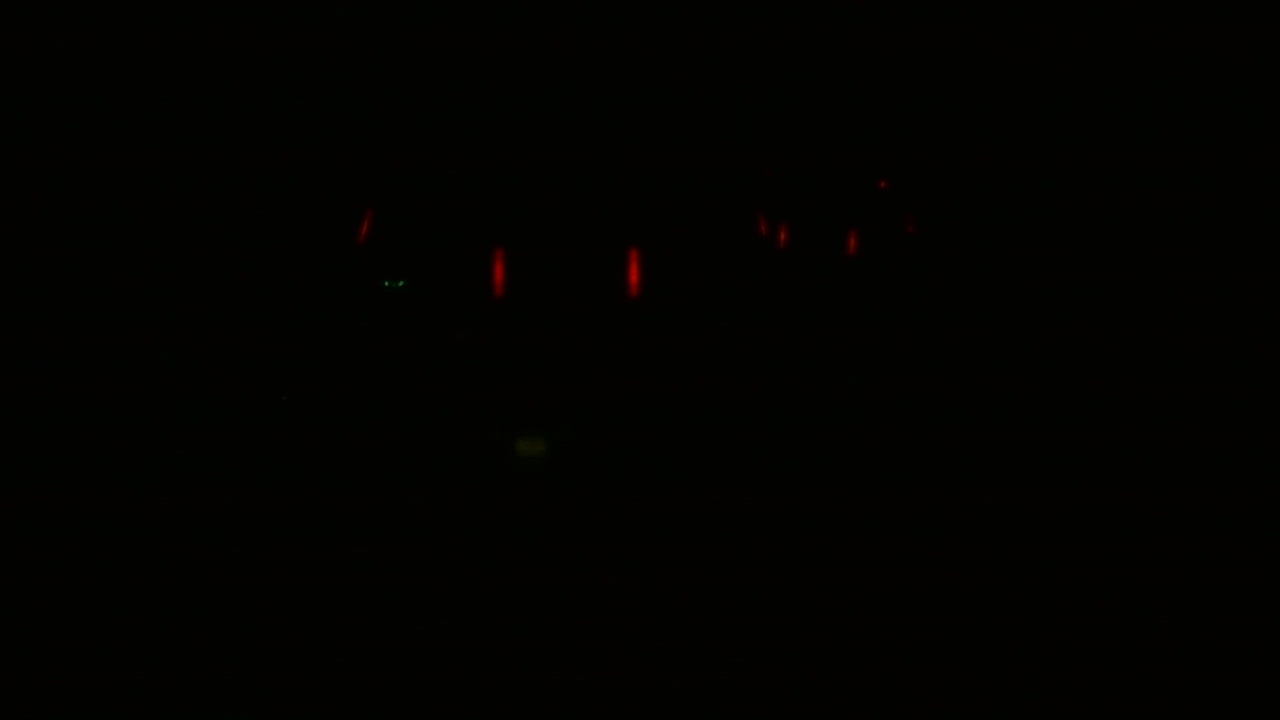pair1: (489, 245, 644, 303), (773, 217, 862, 263)
